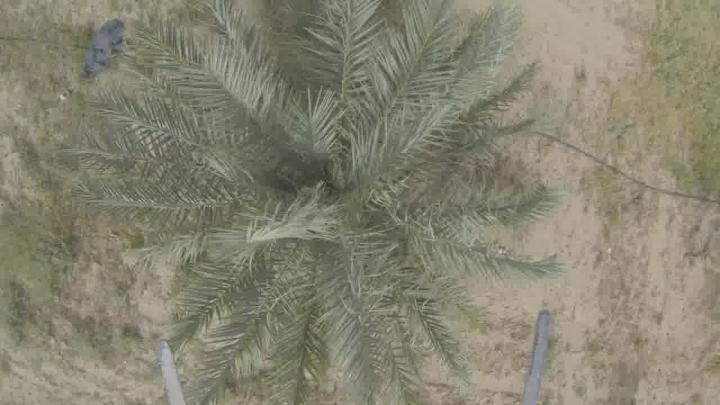Date-Palm-Crown: (182, 31, 466, 335)
